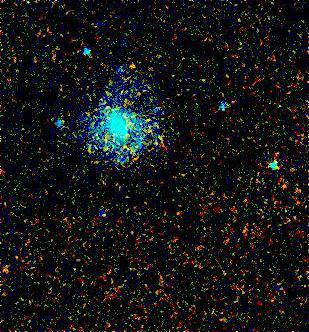star: (118, 52, 148, 82)
